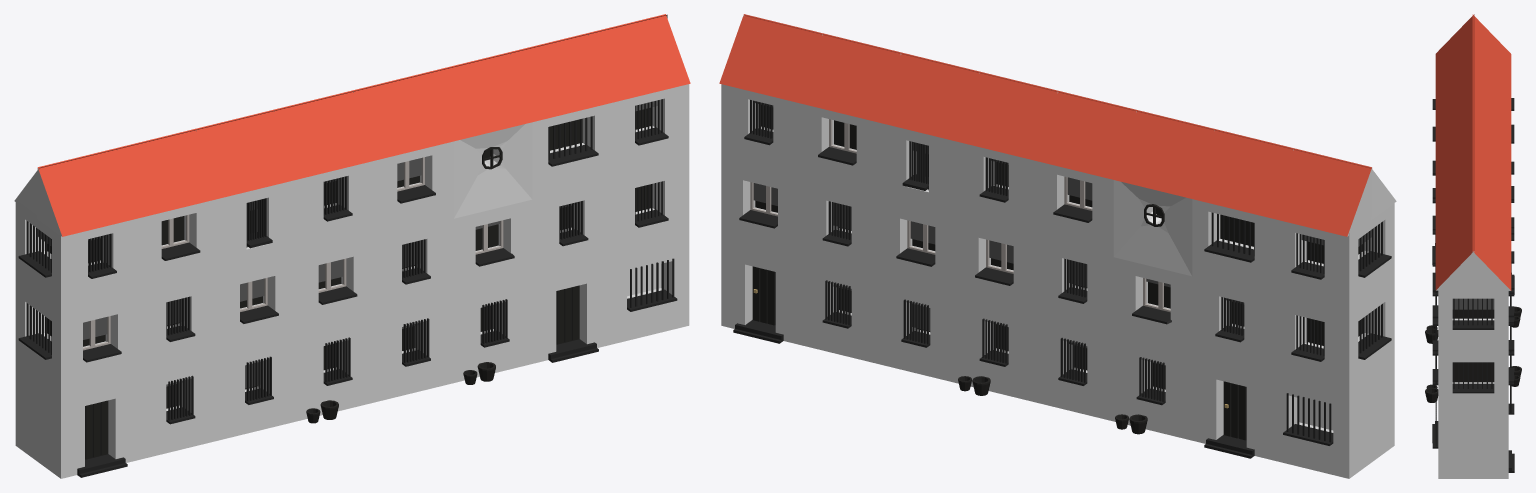
Rendered from CasaProcedural_5.fbx.
3 renders of one model, left to right at view 1: azimuth 30°, elevation 25°; view 2: azimuth 150°, elevation 25°; view 3: azimuth 270°, elevation 25°, orthographic. The views are drawn at different scales.
Visible parts, largest first — view 1: Procedural_Building; view 2: Procedural_Building; view 3: Procedural_Building.
Part boxes in pixels (box(x1,y1,x2,y2)): Procedural_Building: box(14, 14, 690, 478); Procedural_Building: box(719, 14, 1396, 478); Procedural_Building: box(1425, 14, 1521, 478).
Size of the model in its own units: 816 by 359 by 138.
